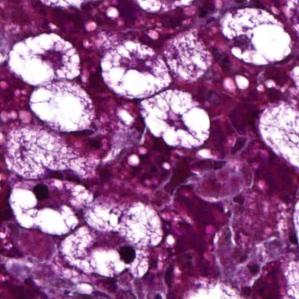ballooning: (59, 223, 158, 281), (8, 173, 95, 238), (134, 87, 216, 154), (219, 4, 295, 72), (5, 28, 83, 93), (100, 36, 173, 101)
